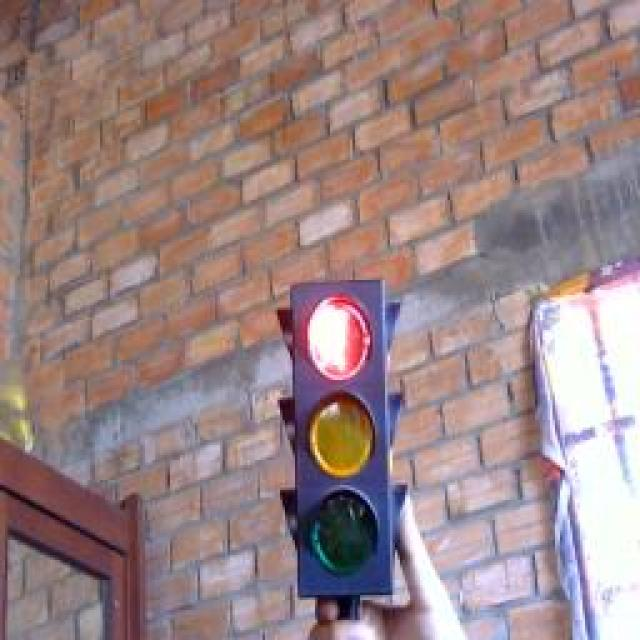-: (301, 291, 379, 386)
